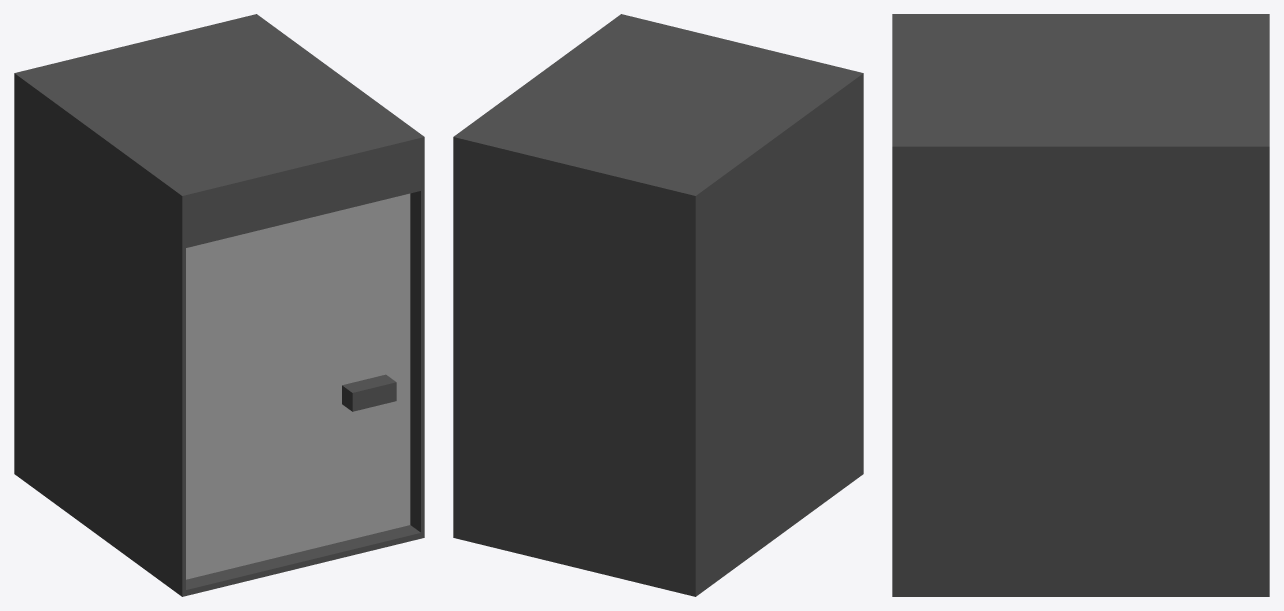
The model's file is Sortieindé.fbx.
The picture shows the model from 3 angles, left to right: view 1: azimuth 30°, elevation 25°; view 2: azimuth 150°, elevation 25°; view 3: azimuth 270°, elevation 25°; orthographic projection. The views are drawn at different scales.
Visible parts, largest first — view 1: Cube.222; view 2: Cube.222; view 3: Cube.222.
Boxes of the visible parts, x1,y1,x2,y2 form: Cube.222: (14,14,424,596); Cube.222: (453,14,863,596); Cube.222: (892,14,1269,596).
Bounding box in the file's own units: 500 × 790 × 600.
